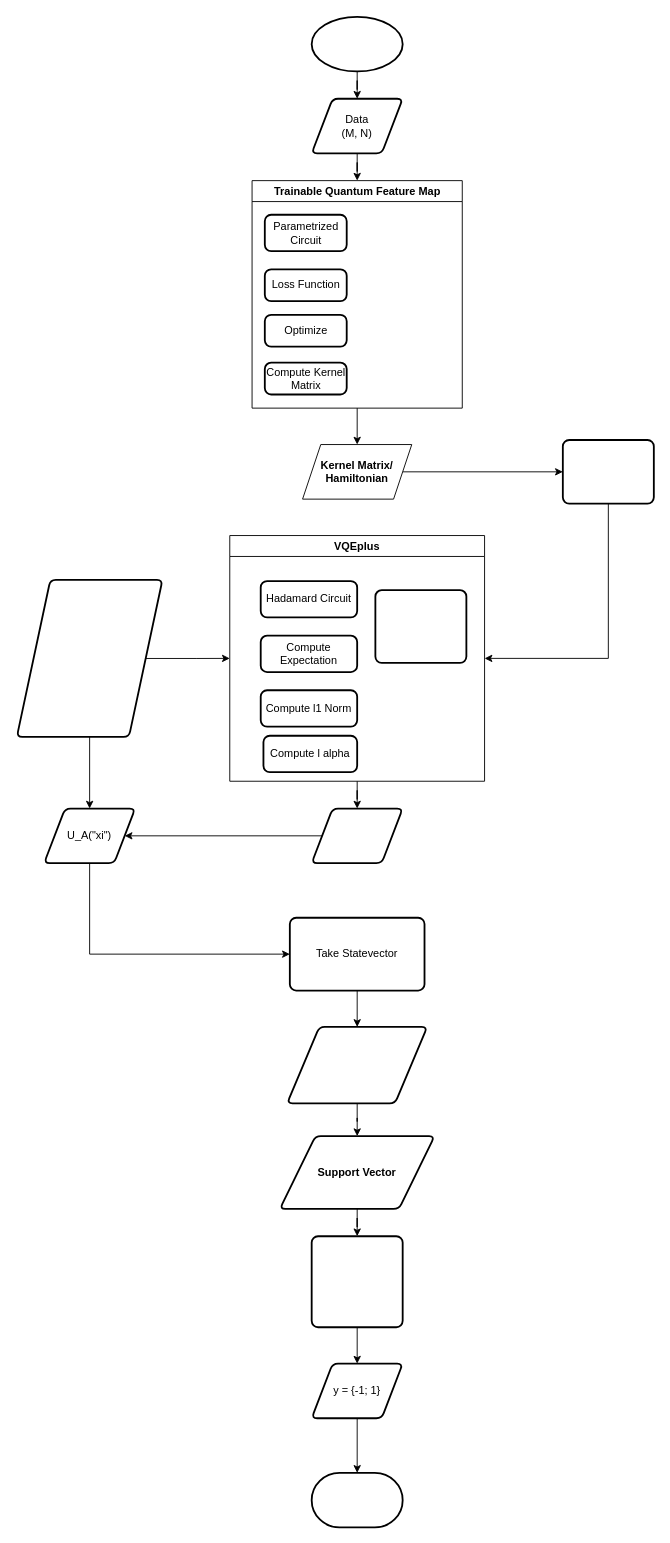
Some shapes in this 670 by 1543 pixel diagram are drawn without their labels. The centre of each missing label's shape, as x and y in pixels:
Ansatz: [89,658]
Decision Function: [356,1281]
Decomposing to Pauli Matrix: [607,471]
End: [356,1499]
Minimize Loss Function: [420,626]
Optimial "Xi": [356,835]
Start: [356,43]
StateVector (alpha): [357,1065]
